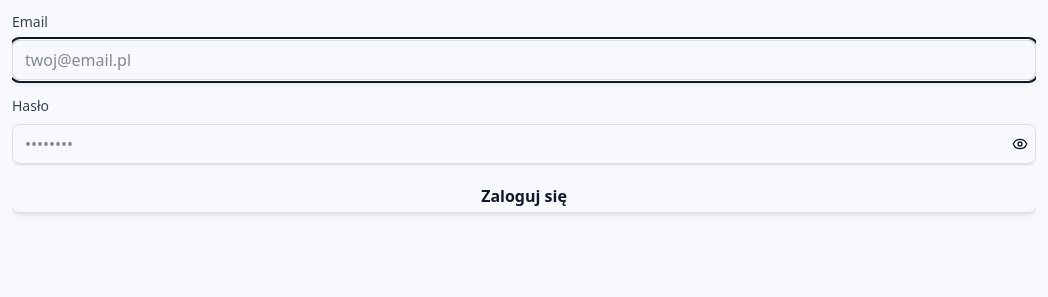
Test: LoginForm › Client-side Validation › should clear email error when user starts typing
Note: Trigger validation error
Click the button "Zaloguj się" at [524, 196], box [12,180,1036,212]
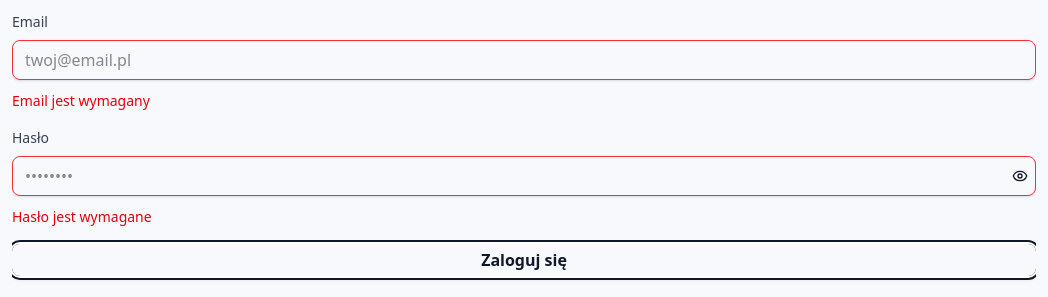
Now the text "Email jest wymagany" is shown, box [12,91,150,110]
Note: Start typing
Type "t" into the field labelled "Email" at [524, 60], box [12,40,1036,80]
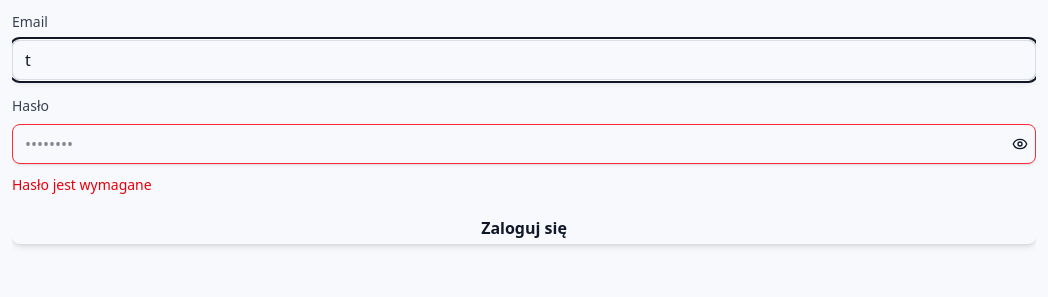
Now the text "Email jest wymagany" is gone
